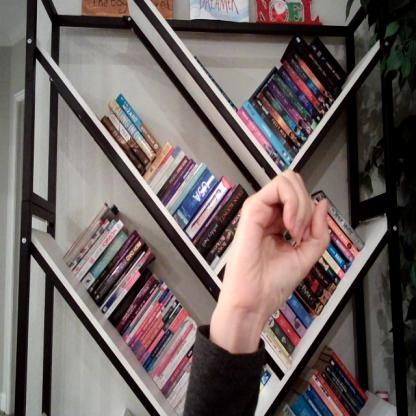zero: (213, 167, 332, 324)
